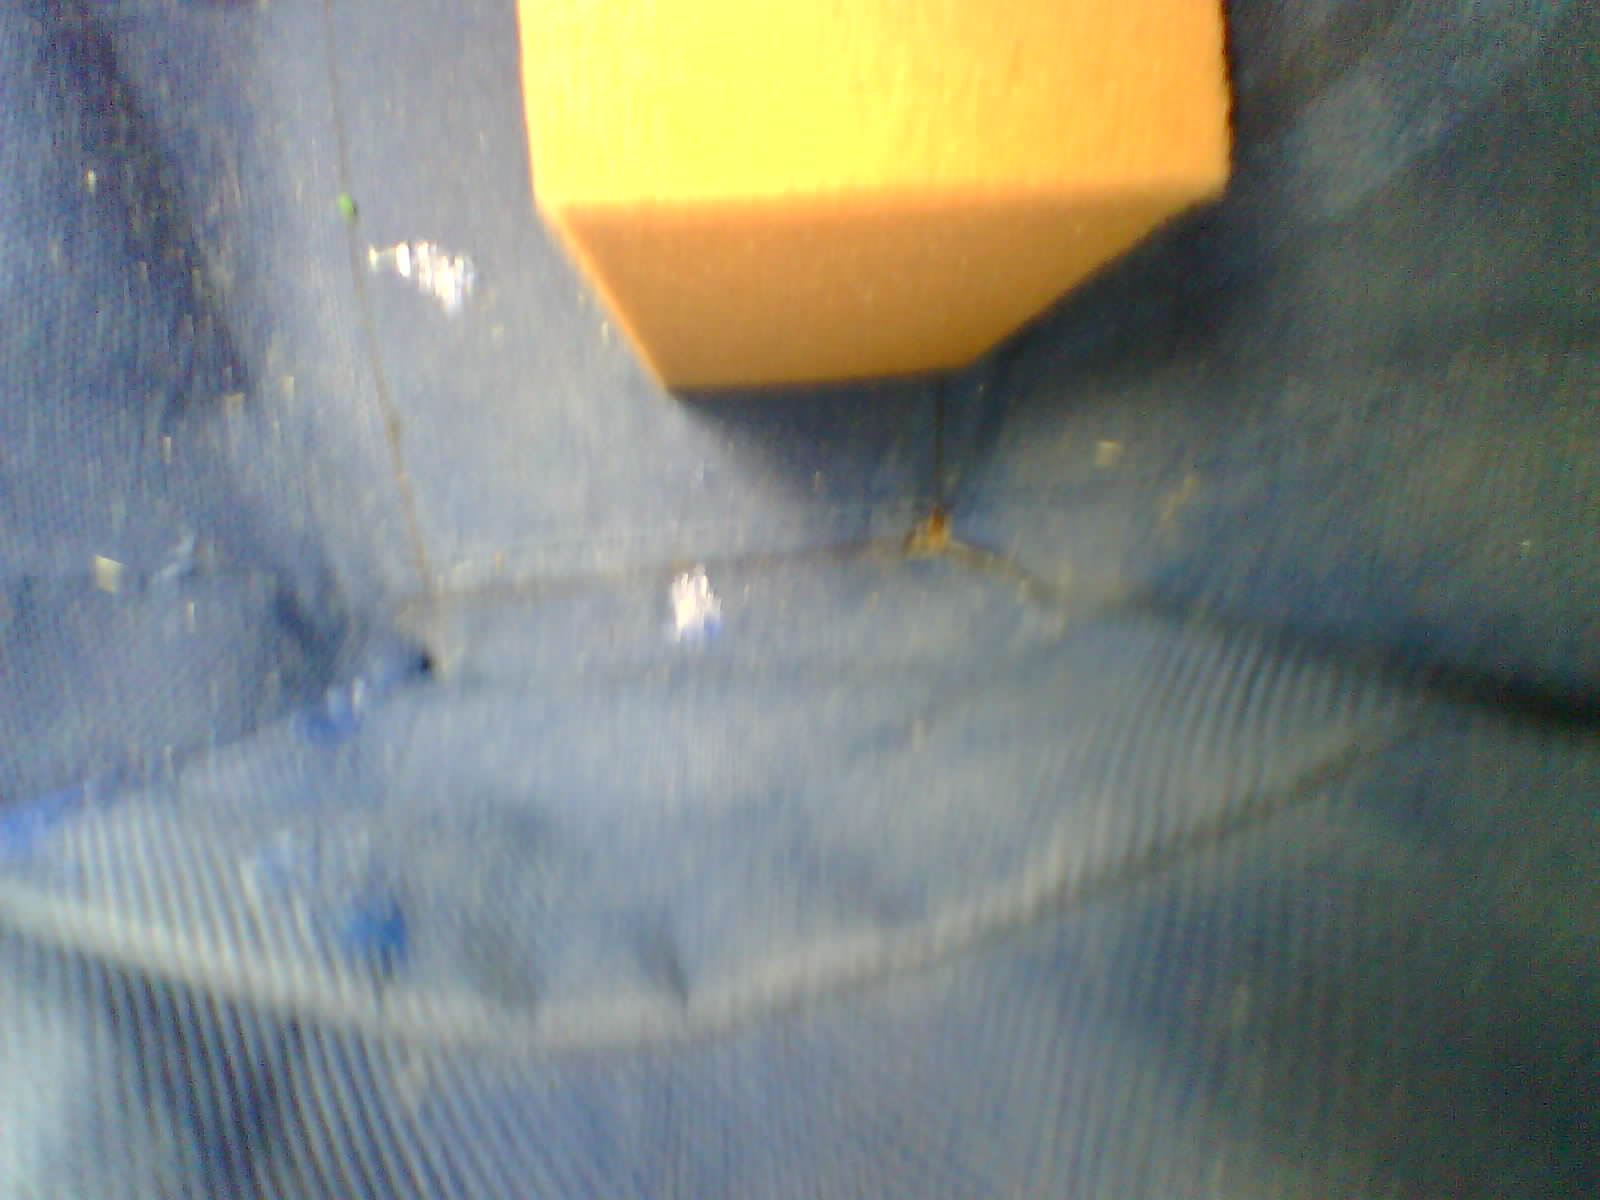cube-soft: (498, 0, 1251, 451)
